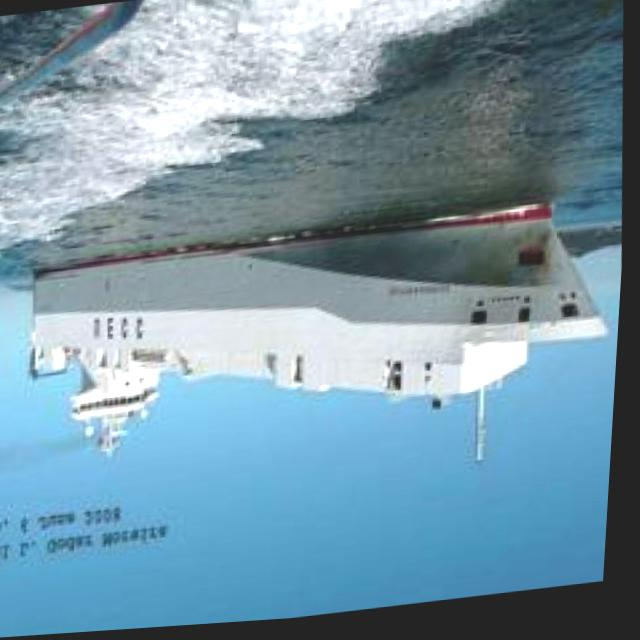ship2: (32, 207, 615, 470)
